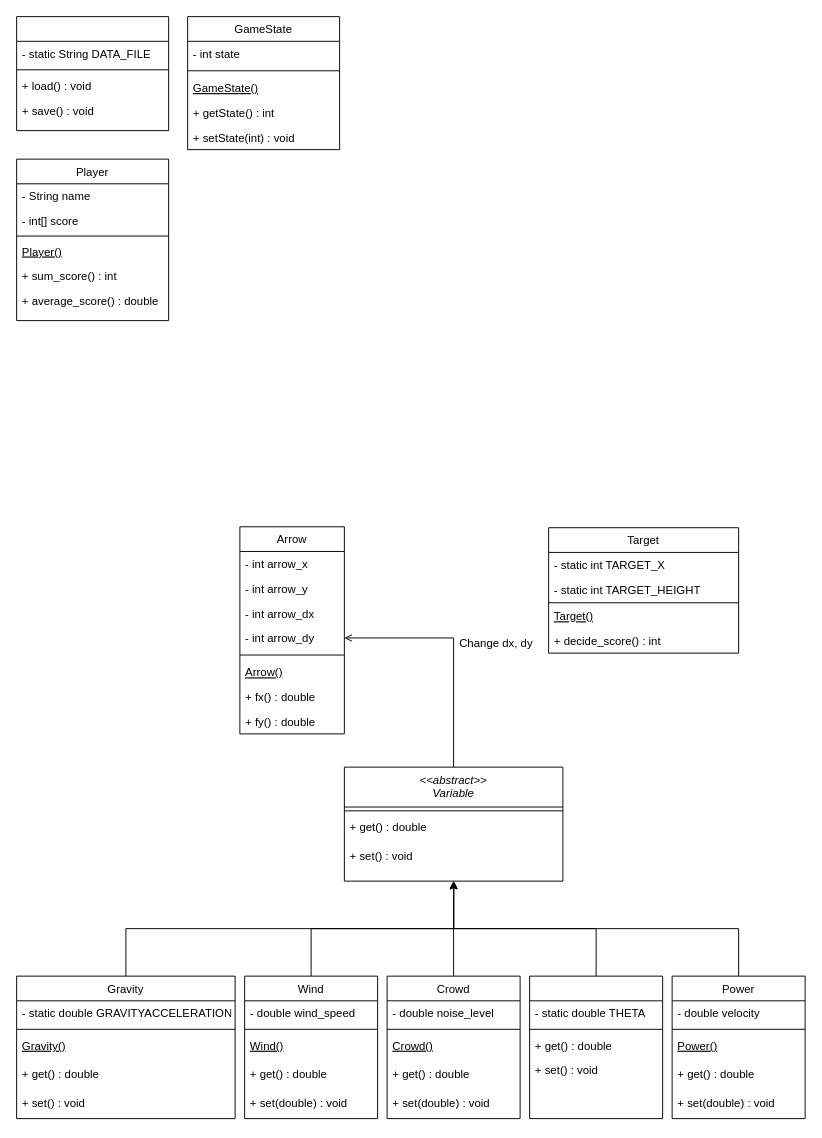
Image size: 822x1138. Some labels were removed from this diagram. The box of each missing label's shape, as (x1, y1, x2, y2) in pixels:
Angle: (529, 975, 663, 1119)
FileControl: (16, 16, 169, 131)
